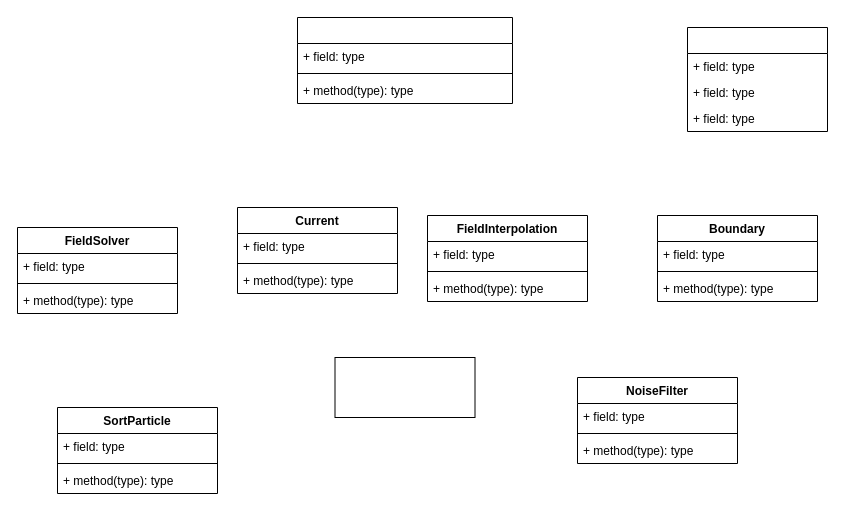
Some shapes in this 845 by 514 pixel diagram are drawn without their labels. Each missing label, with the box of its shape:
Constants: (686, 26, 828, 132)
MomentCalculation: (334, 356, 475, 418)
PIC1D: (296, 16, 512, 104)
